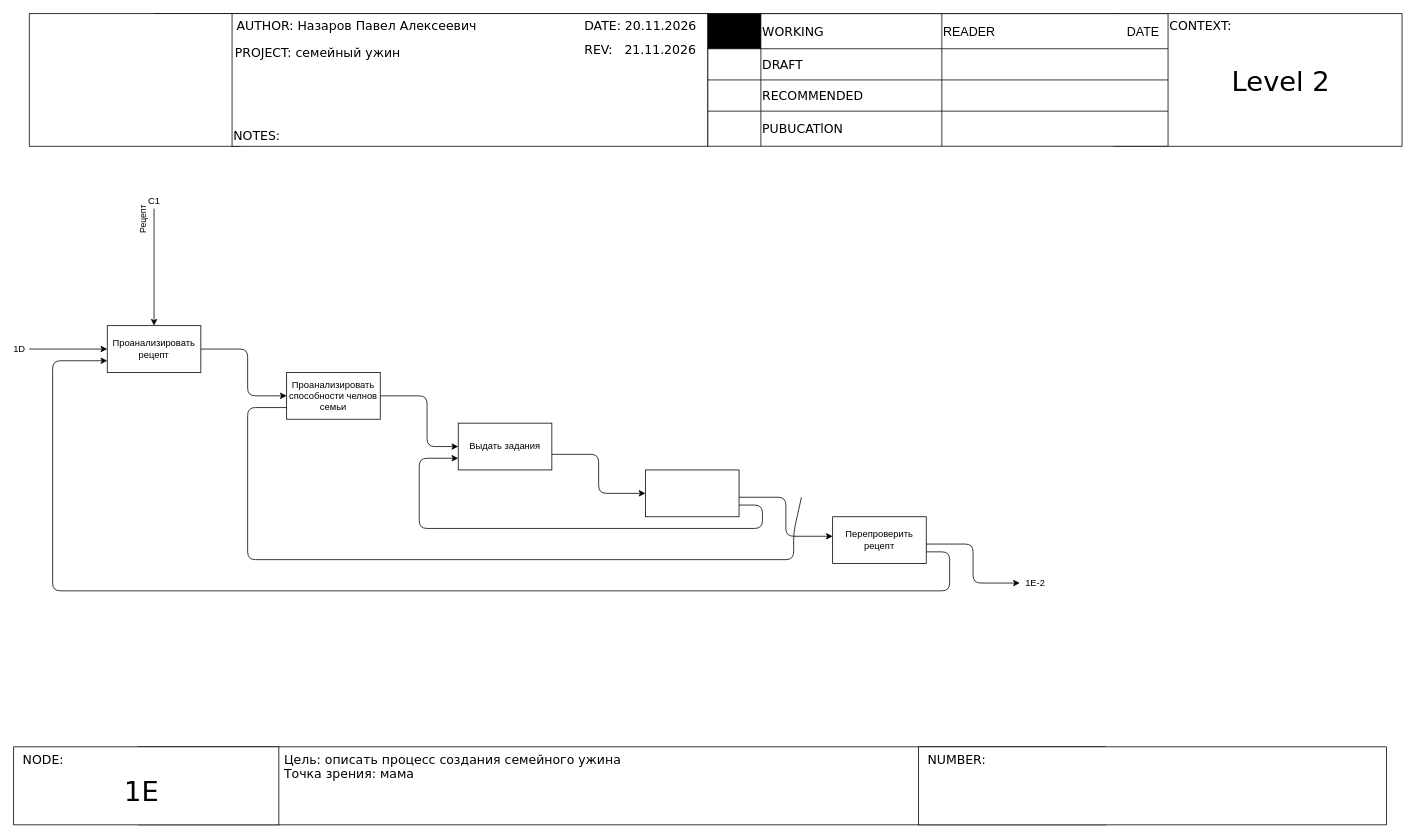
Image size: 1416x838. Some labels were removed from this diagram. The box of each missing label's shape, as (x1, y1, x2, y2) in pixels:
USET AT: РИС-26-3б проект: (28, 13, 240, 146)
Спросить мнение членов семьи: (645, 469, 739, 517)
